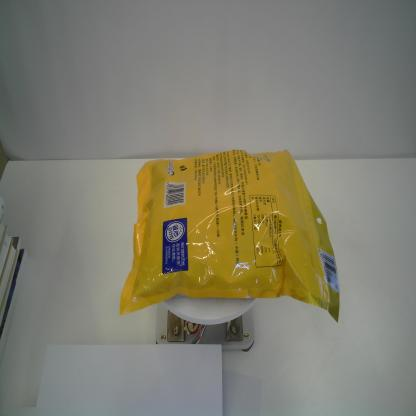Dried Food: (119, 148, 340, 325)
